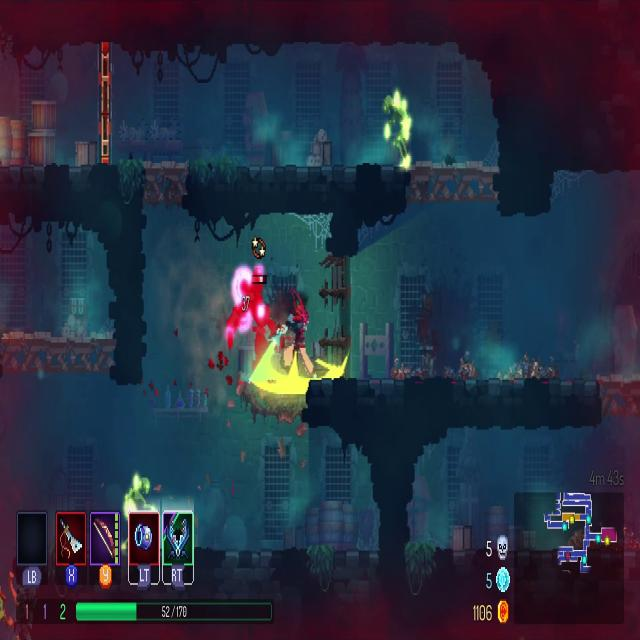agents: (278, 288, 312, 377)
door_regular: (96, 42, 112, 167)
enemy_green_puncher: (382, 92, 412, 172), (124, 470, 158, 519)
enemy_purple_big: (226, 266, 281, 378)
wood_floor: (0, 330, 115, 377), (408, 158, 499, 208), (143, 155, 192, 209), (599, 371, 640, 418)
